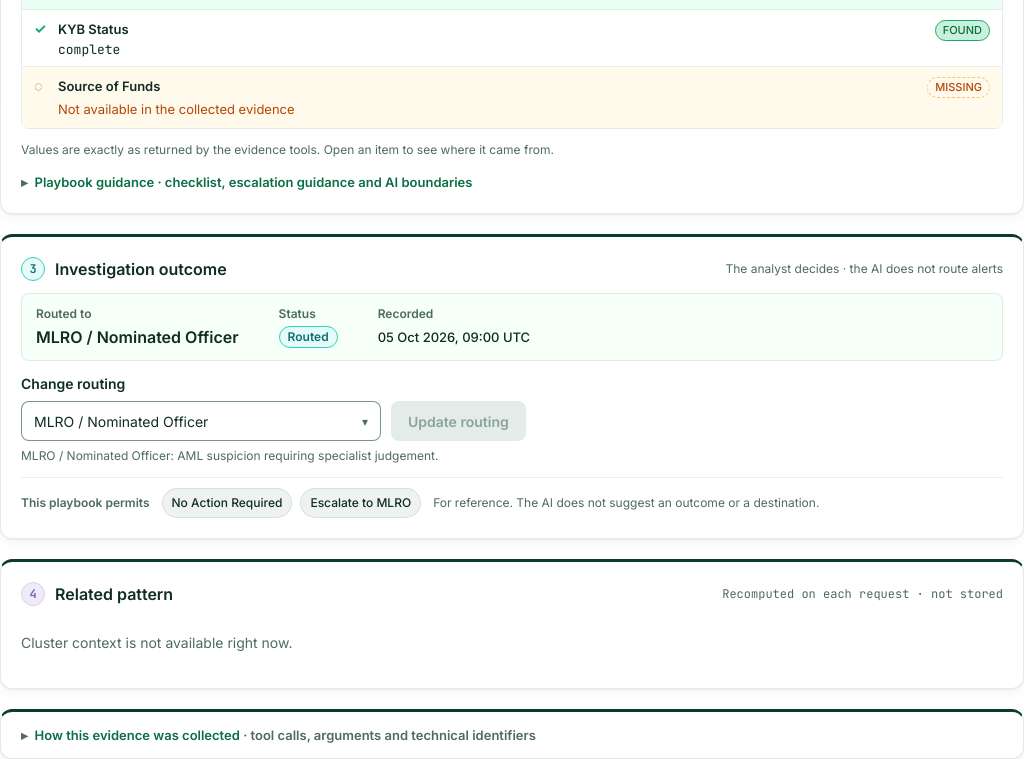
Test: routing › shows an existing decision on load, keeps it selected, and can change it in place
(page scrolled)
Expected: the text "MLRO / Nominated Officer" below "Routed to" is shown, [36, 327, 239, 347]
Expected: the text "05 Oct 2026, 09:00 UTC" is shown, [378, 326, 530, 348]
Click the button with aria-label "Routing destination" at [201, 421], box [21, 401, 381, 441]
(page scrolled)
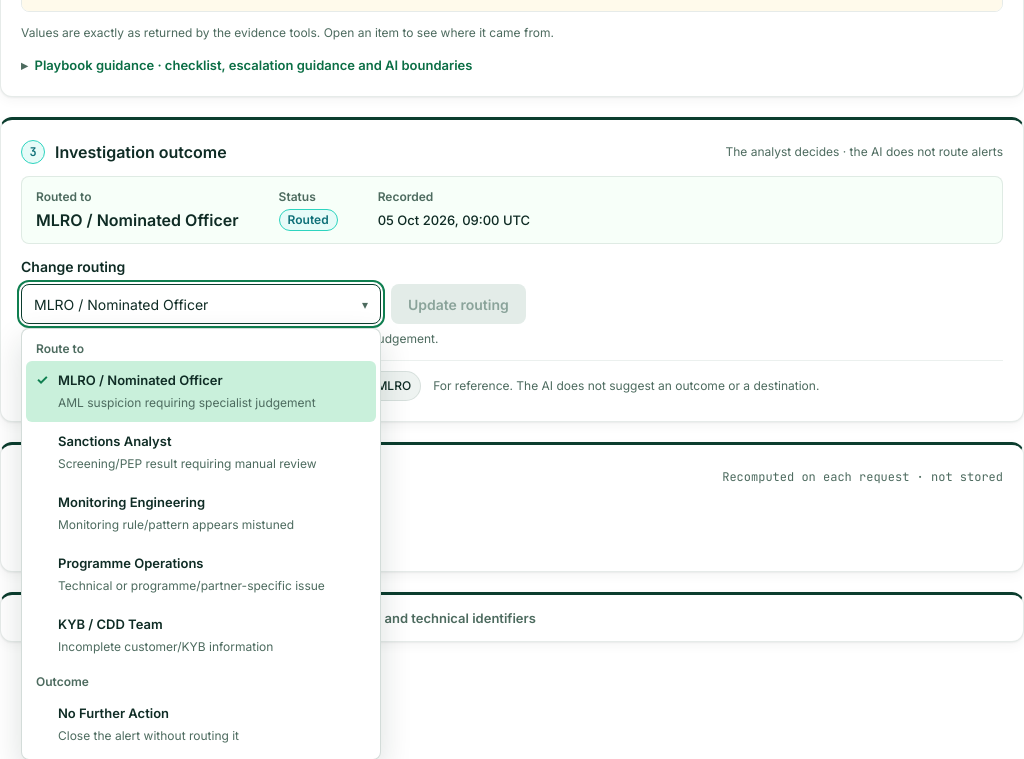
Click the option "KYB / CDD Team Incomplete customer/KYB information" at [110, 624], box [58, 616, 273, 654]
(page scrolled)
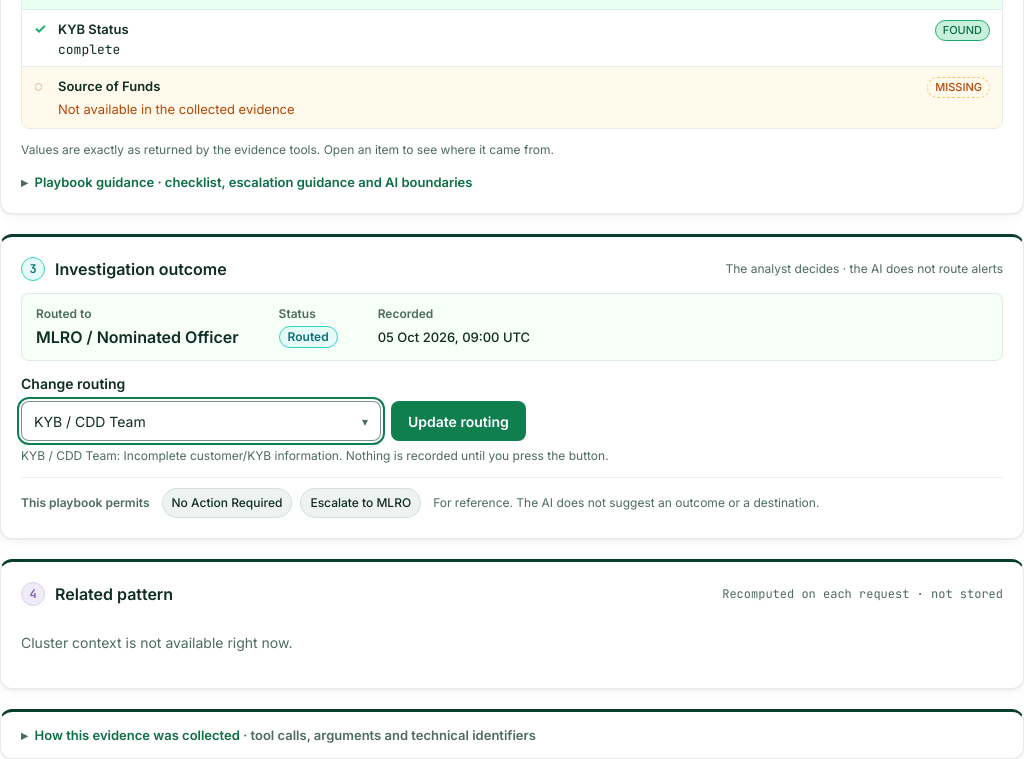
Click the button "Update routing" at [458, 421], box [391, 401, 526, 441]
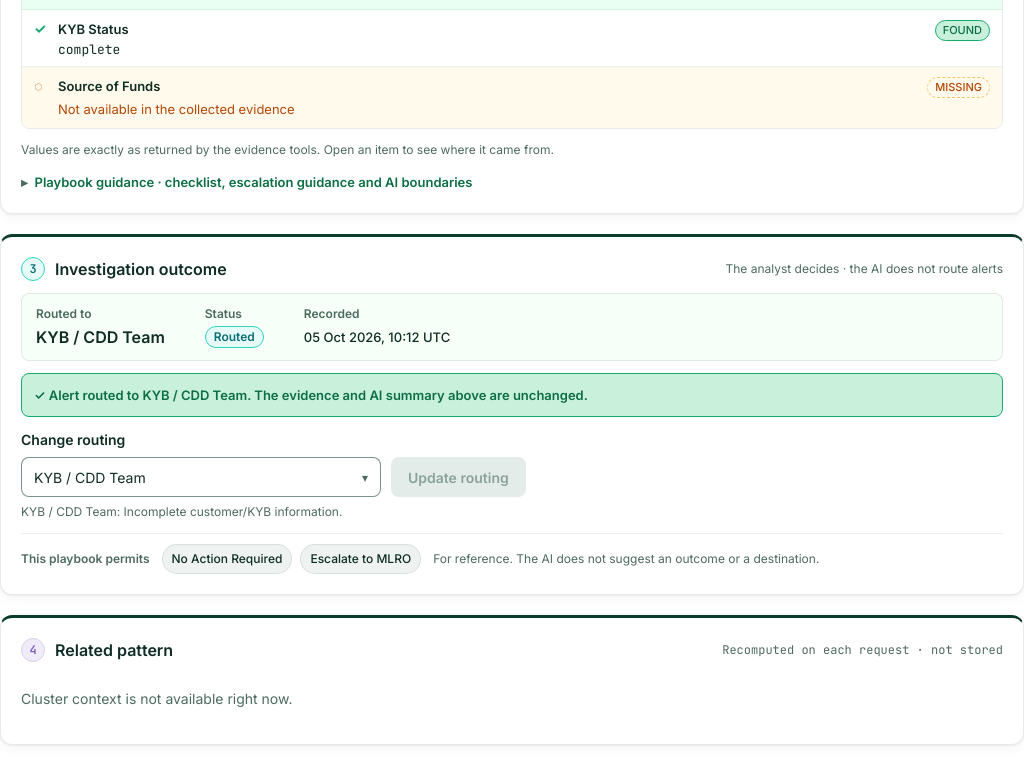
Now the text "Alert routed to KYB / CDD Team." is shown, box [49, 387, 251, 403]
